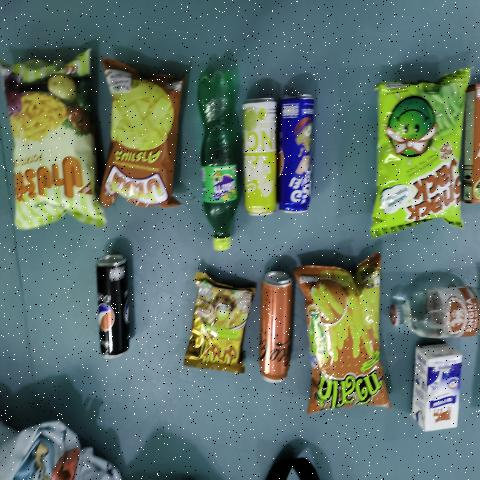coke_red: (261, 275, 291, 377)
fanta_green: (196, 67, 238, 254)
mama: (192, 277, 244, 372)
paprika: (16, 58, 90, 215)
party_red: (113, 78, 168, 204)
pepsi_black: (97, 255, 134, 358)
pepsi_blue: (280, 92, 312, 208)
singha_soda: (386, 285, 480, 341)
singha_yellow: (246, 95, 274, 211)
snack_jack: (376, 75, 464, 231)
thai_denmark: (413, 347, 461, 432)
twisco: (311, 278, 378, 403)
